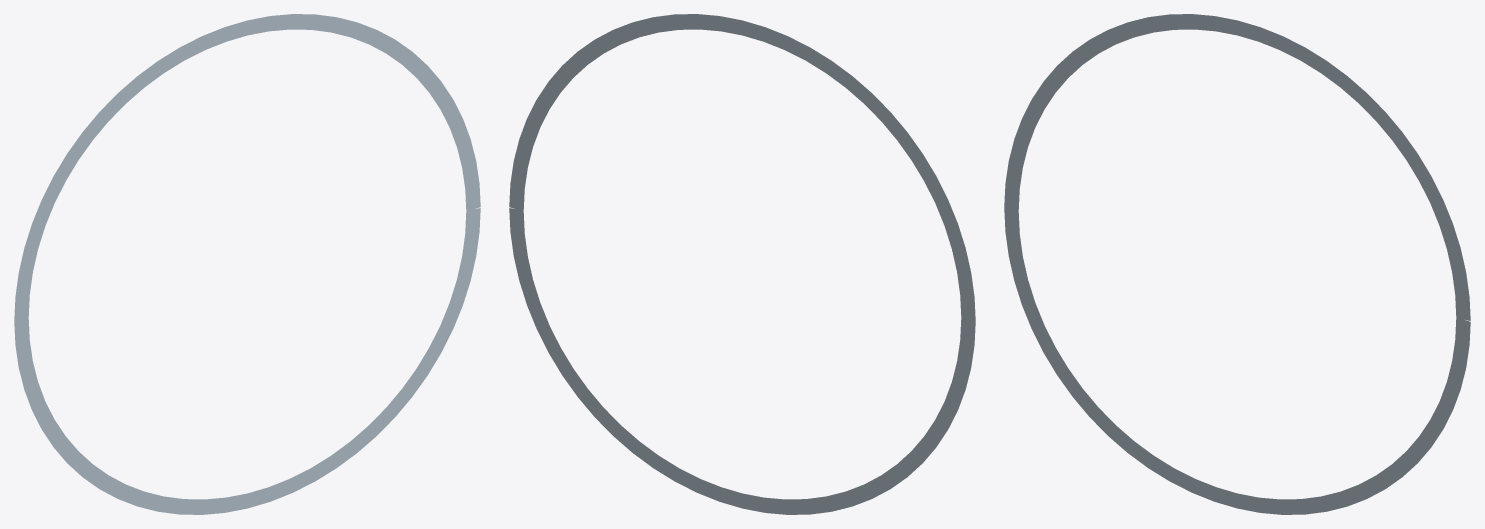
The model's file is 2048_PotionThrow_Overall_Wave.fbx.
3 renders of one model, left to right at view 1: azimuth 30°, elevation 25°; view 2: azimuth 150°, elevation 25°; view 3: azimuth 330°, elevation 25°, orthographic.
Parts seen in each view (by area): view 1: PART_SoftWaveFront; view 2: PART_SoftWaveFront; view 3: PART_SoftWaveFront.
Boxes of the visible parts, x1,y1,x2,y2 form: PART_SoftWaveFront: (14,14,480,514); PART_SoftWaveFront: (509,14,975,514); PART_SoftWaveFront: (1004,14,1470,514).
Size of the model in its own units: 206 by 206 by 3.36e-05.
